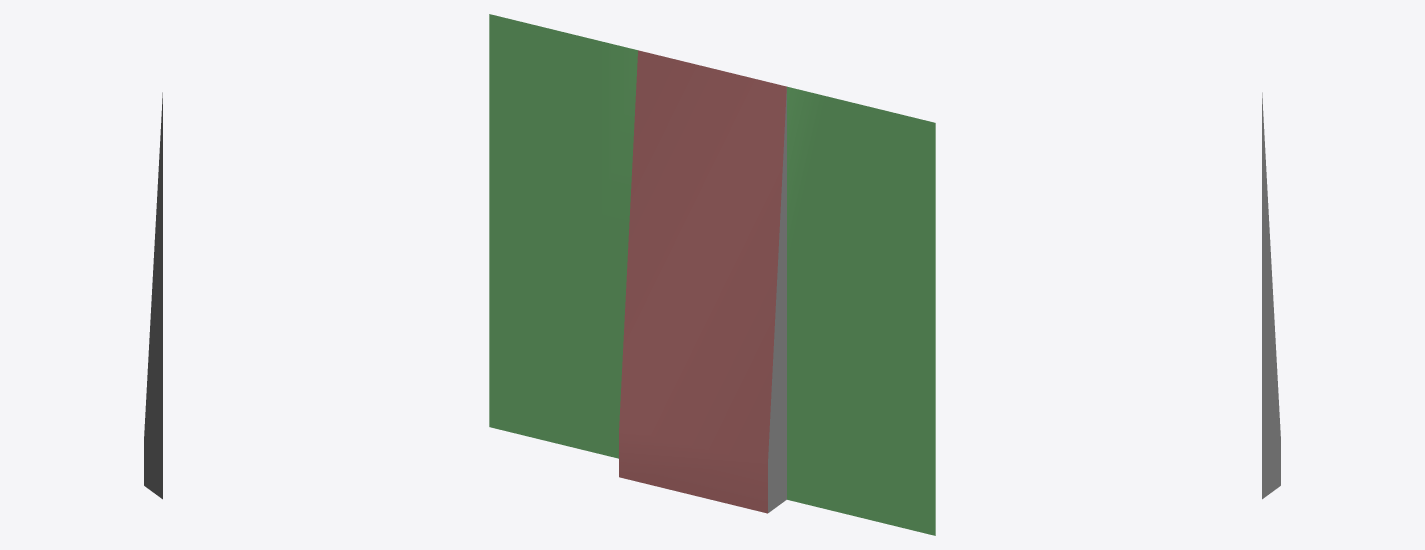
The model's file is SSQ_dungeon_S__SSQ_Room02_Gatedoor.gltf.
3 views of the same model, side by side, from view 1: azimuth 30°, elevation 25°; view 2: azimuth 150°, elevation 25°; view 3: azimuth 330°, elevation 25° (orthographic).
Parts seen in each view (by area): view 1: SSQ_Room02_Gatedoor; view 2: SSQ_Room02_Gatedoor; view 3: SSQ_Room02_Gatedoor.
Boxes of the visible parts, bbox=[...] form: SSQ_Room02_Gatedoor: bbox=[144, 92, 162, 499]; SSQ_Room02_Gatedoor: bbox=[489, 14, 935, 535]; SSQ_Room02_Gatedoor: bbox=[1262, 92, 1280, 499].
Bounding box in the file's own units: 2.49 × 2.21 × 0.1835.
